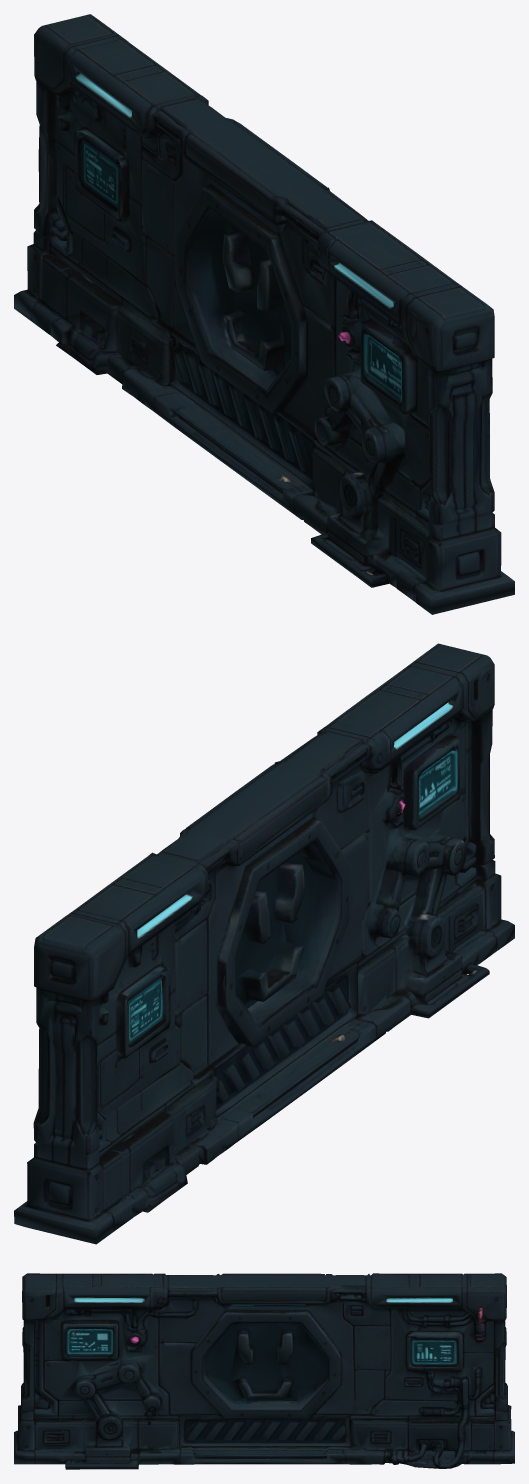
File: WallZone4.fbx
The picture shows the model from 3 angles, top to bottom: view 1: azimuth 30°, elevation 25°; view 2: azimuth 150°, elevation 25°; view 3: azimuth 270°, elevation 25°; orthographic projection. The views are drawn at different scales.
Parts seen in each view (by area): view 1: tripo_node_9420271c; view 2: tripo_node_9420271c; view 3: tripo_node_9420271c.
Part boxes in pixels (bbox=[...]): tripo_node_9420271c: bbox=[14, 14, 514, 614]; tripo_node_9420271c: bbox=[14, 643, 514, 1244]; tripo_node_9420271c: bbox=[14, 1273, 514, 1469].
Bounding box in the file's own units: 0.1631 × 0.381 × 0.9998.
Materials: 1 (1 with a texture image).
